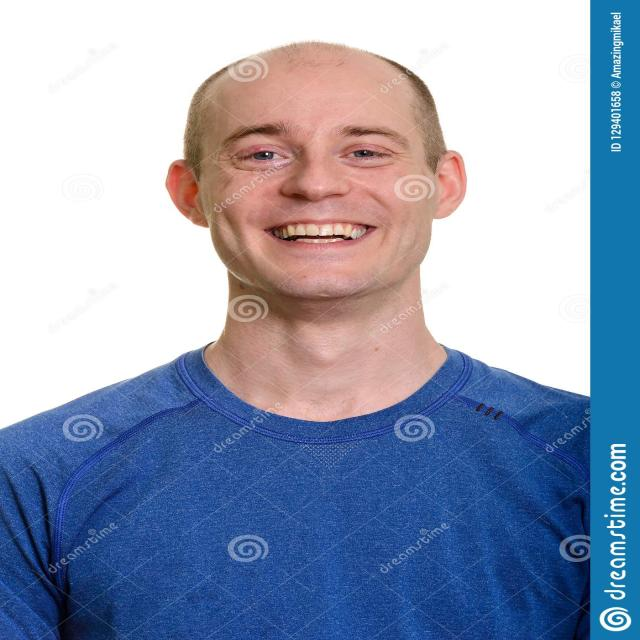no_helmet: (127, 35, 476, 170)
